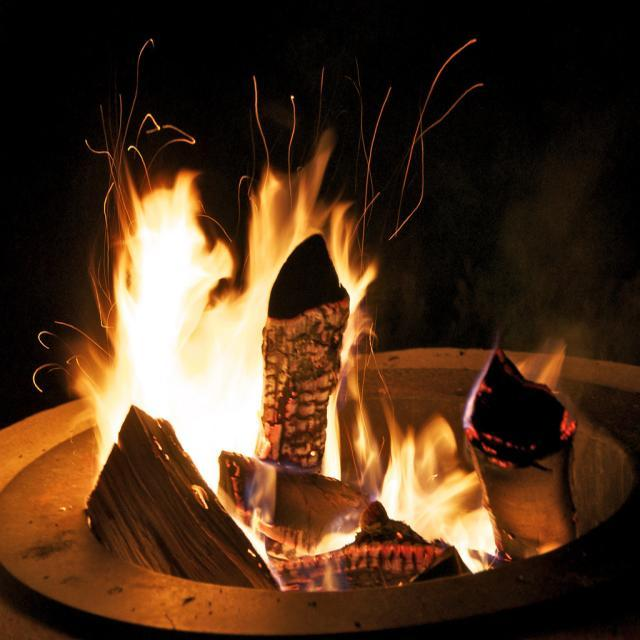Fire: (110, 209, 221, 442), (388, 408, 458, 574), (222, 265, 264, 439)
